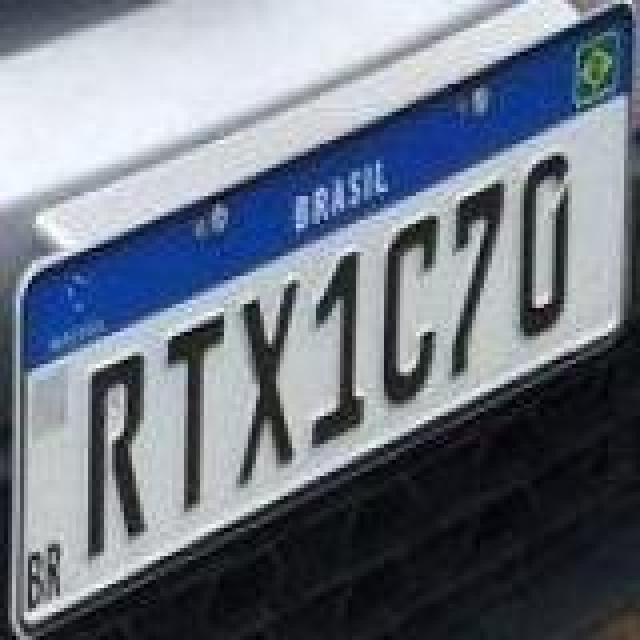1: (308, 252, 364, 452)
7: (450, 180, 510, 380)
C: (378, 214, 438, 410)
D: (516, 152, 572, 344)
R: (90, 350, 150, 562)
T: (164, 312, 228, 512)
X: (234, 278, 302, 490)
